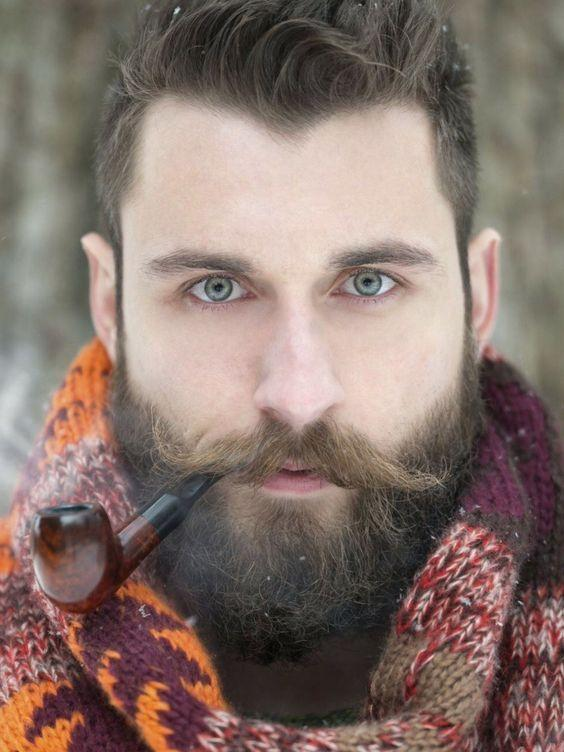trubka: (30, 476, 213, 612)
